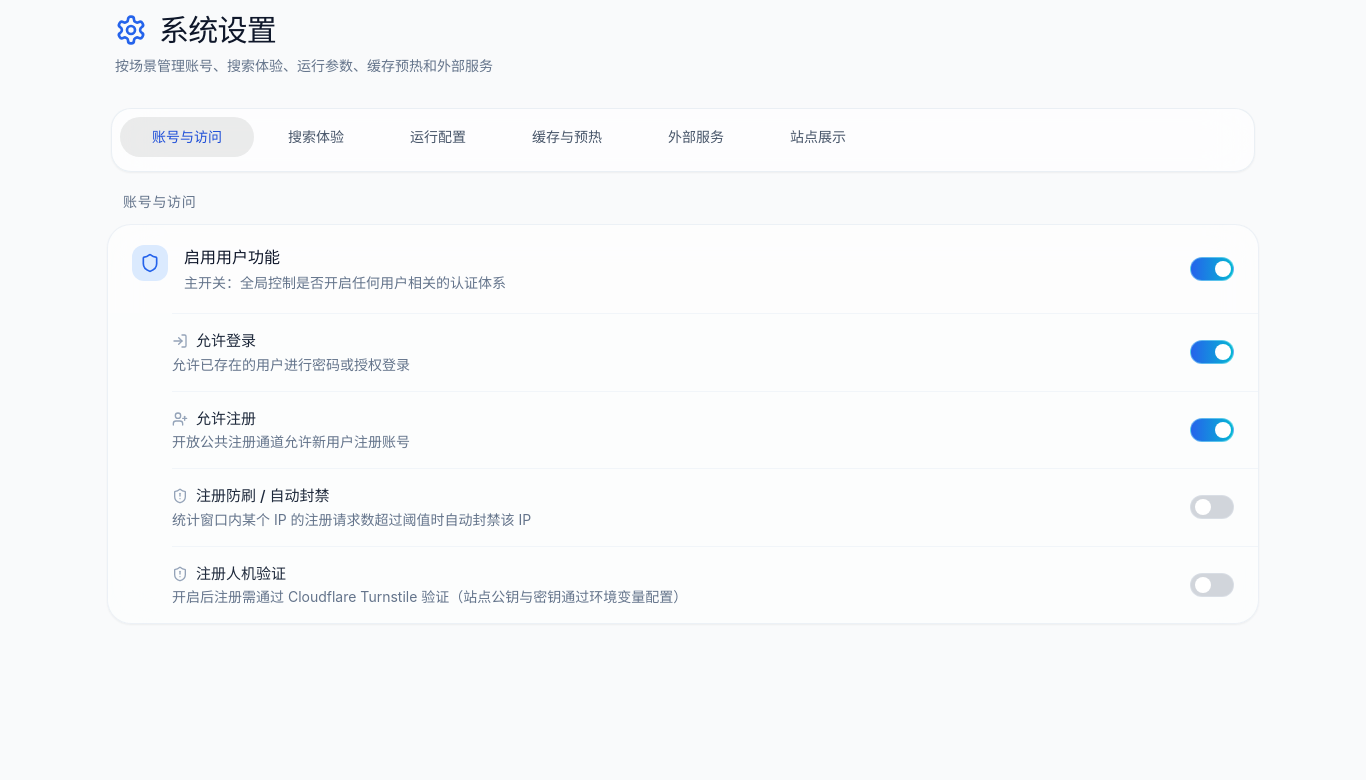
it: SystemSettingsView TMDB section › 展示单输入框令牌配置并允许查看当前令牌
The image size is (1366, 780).
Click the tab "外部服务": coordinates (696, 136) [668,128,724,145]
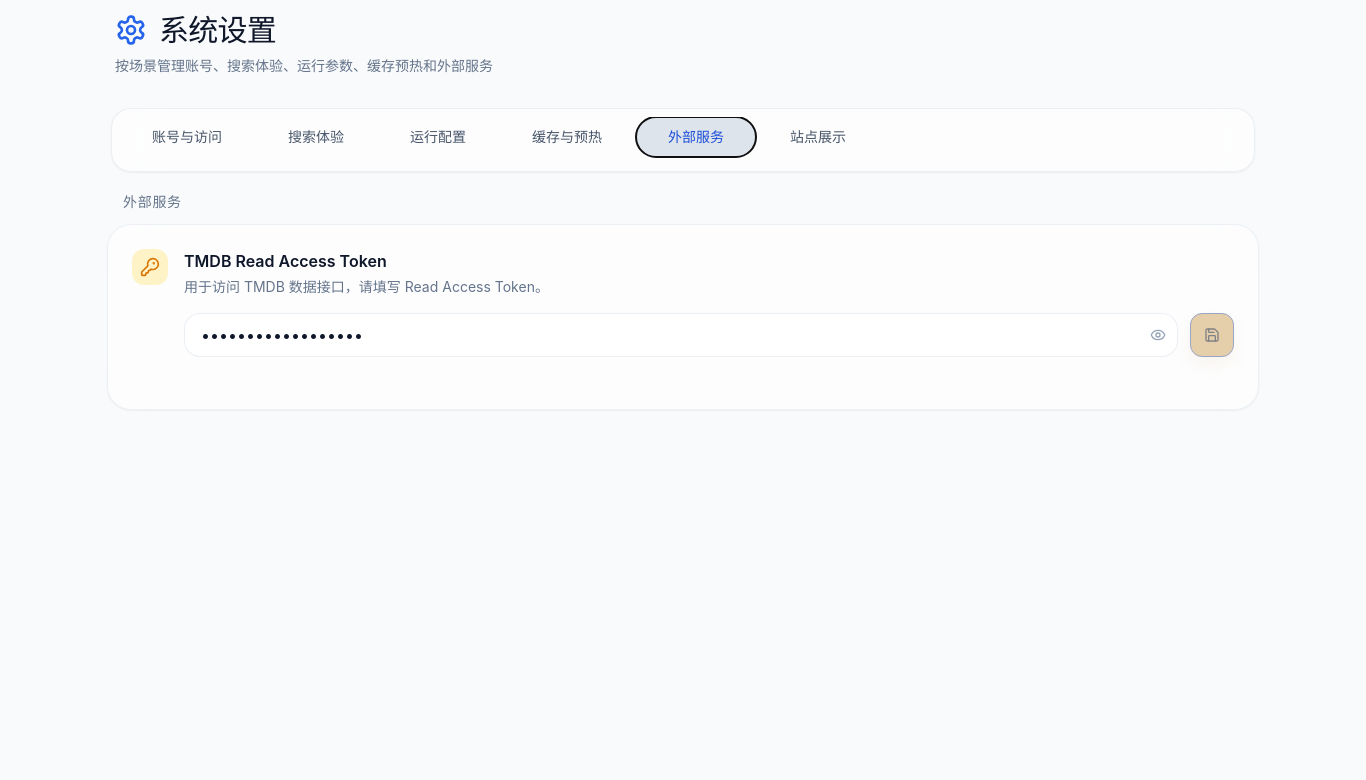
Result: the text "TMDB Read Access Token" is shown at [184,251,387,271]
Result: the button named "查看 TMDB 令牌" is shown at [1150,327,1166,343]
Result: the button named "保存 TMDB 令牌" is disabled at [1190,313,1234,357]
